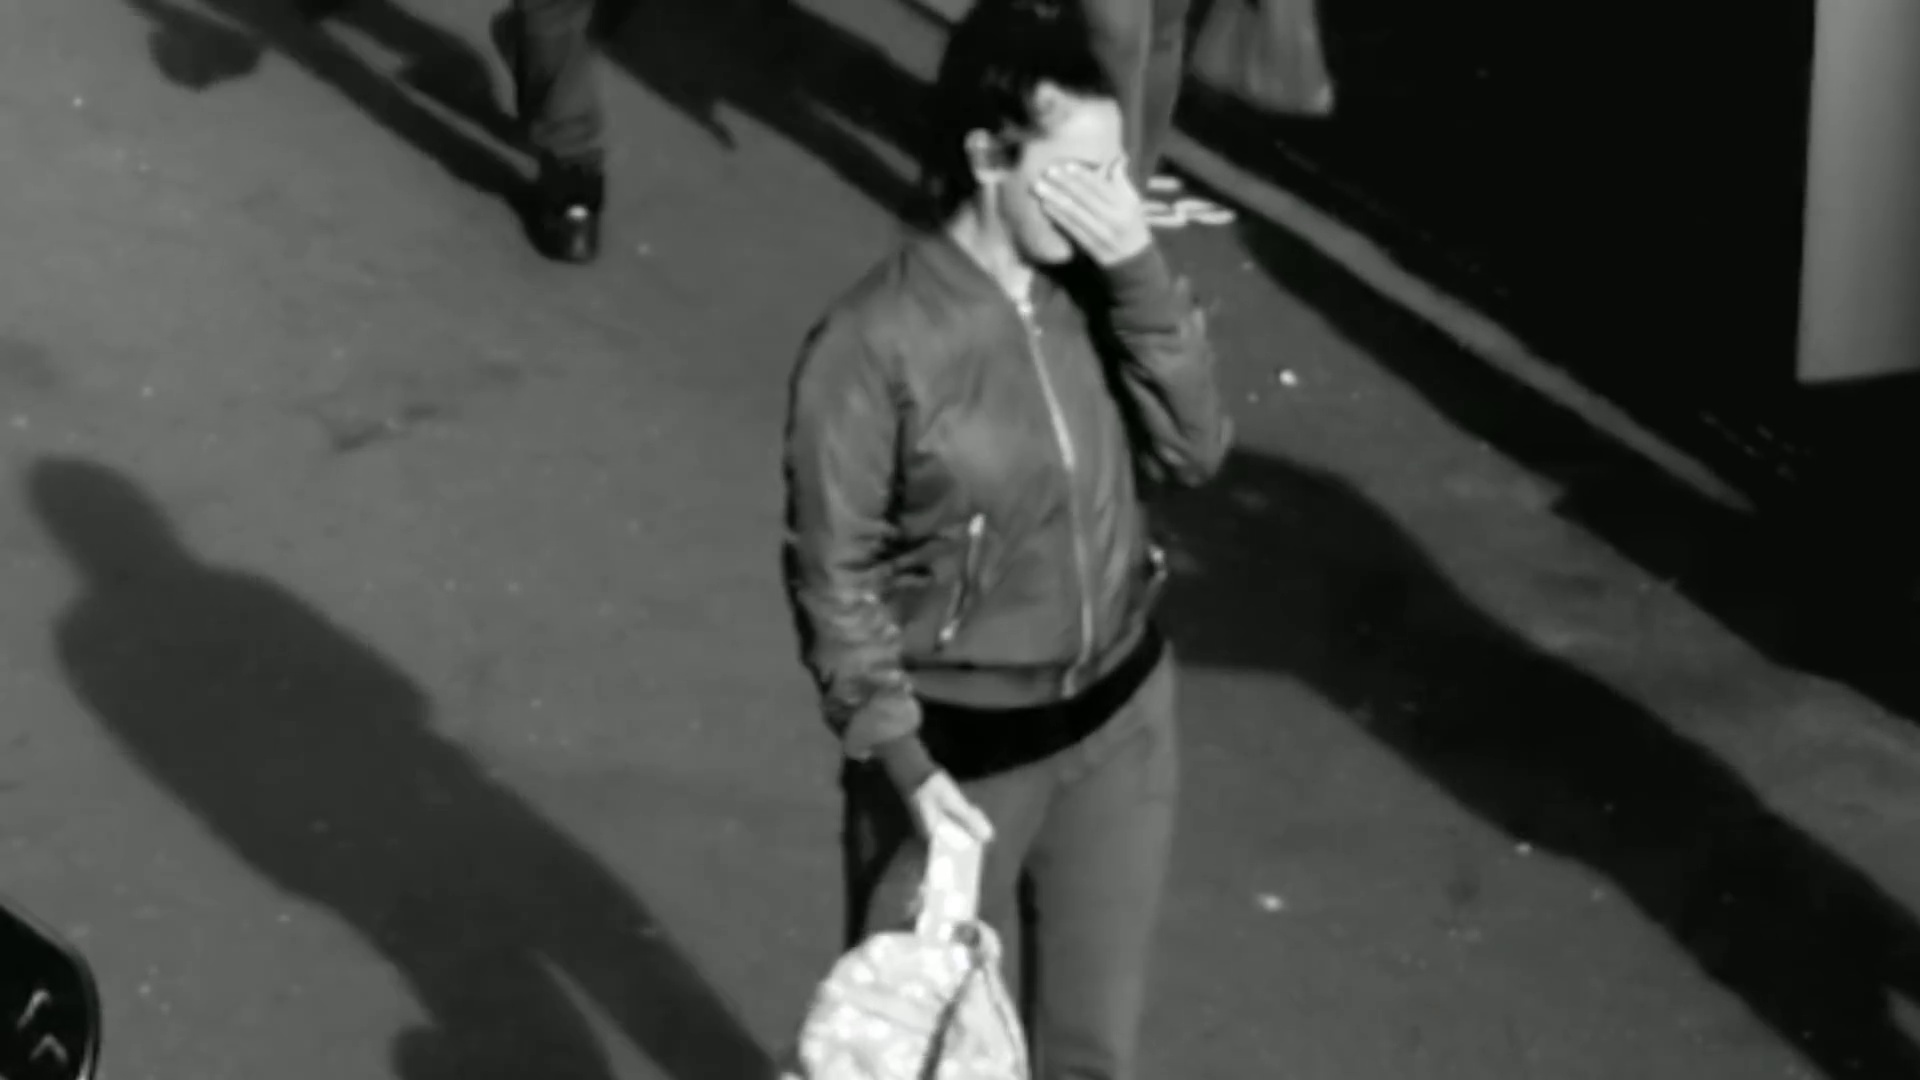face: (999, 100, 1112, 260)
